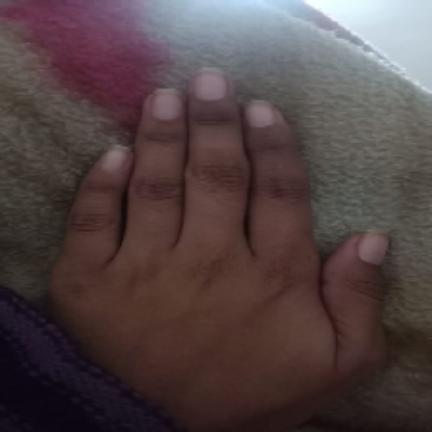Nail: (150, 89, 182, 121), (194, 71, 227, 101), (358, 233, 388, 265), (245, 102, 275, 127), (102, 145, 129, 171)
